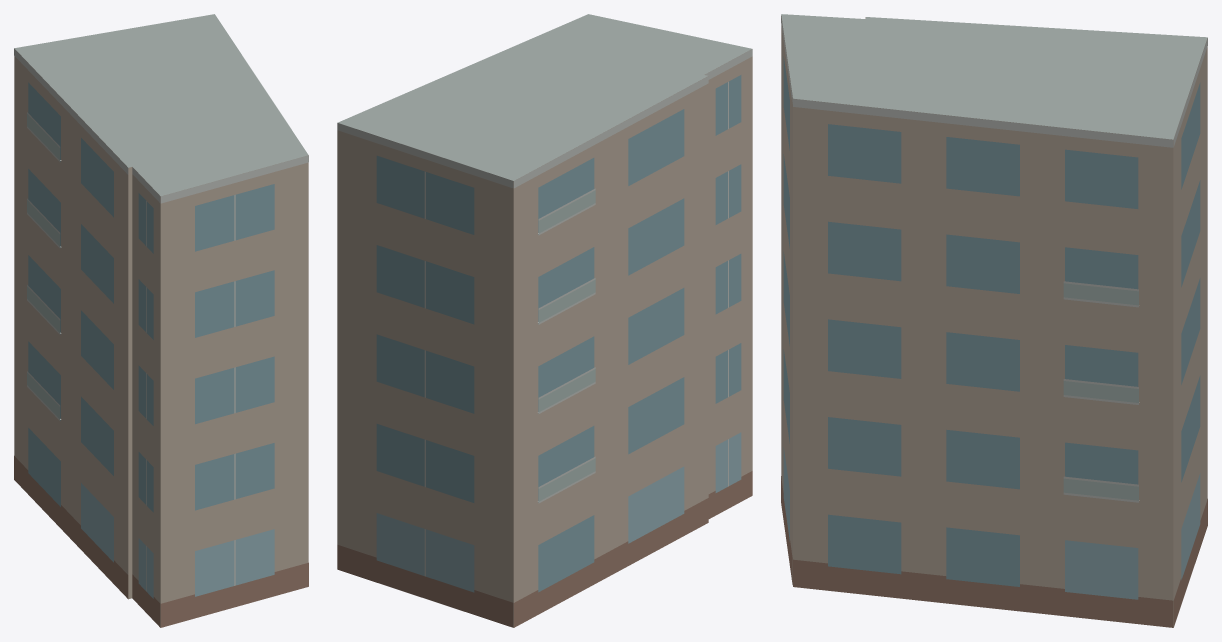
Rendered from survey-upis-32992609.glb.
3 renders of one model, left to right at view 1: azimuth 30°, elevation 25°; view 2: azimuth 150°, elevation 25°; view 3: azimuth 270°, elevation 25°, orthographic. The views are drawn at different scales.
Visible parts, largest first — view 1: survey-upis-32992609.tmp; view 2: survey-upis-32992609.tmp; view 3: survey-upis-32992609.tmp.
Part boxes in pixels (x1,y1,x2,y2): survey-upis-32992609.tmp: (14,14,308,627); survey-upis-32992609.tmp: (337,14,752,627); survey-upis-32992609.tmp: (781,14,1207,627).
Bounding box in the file's own units: 8.01 × 14.5 × 11.49.
